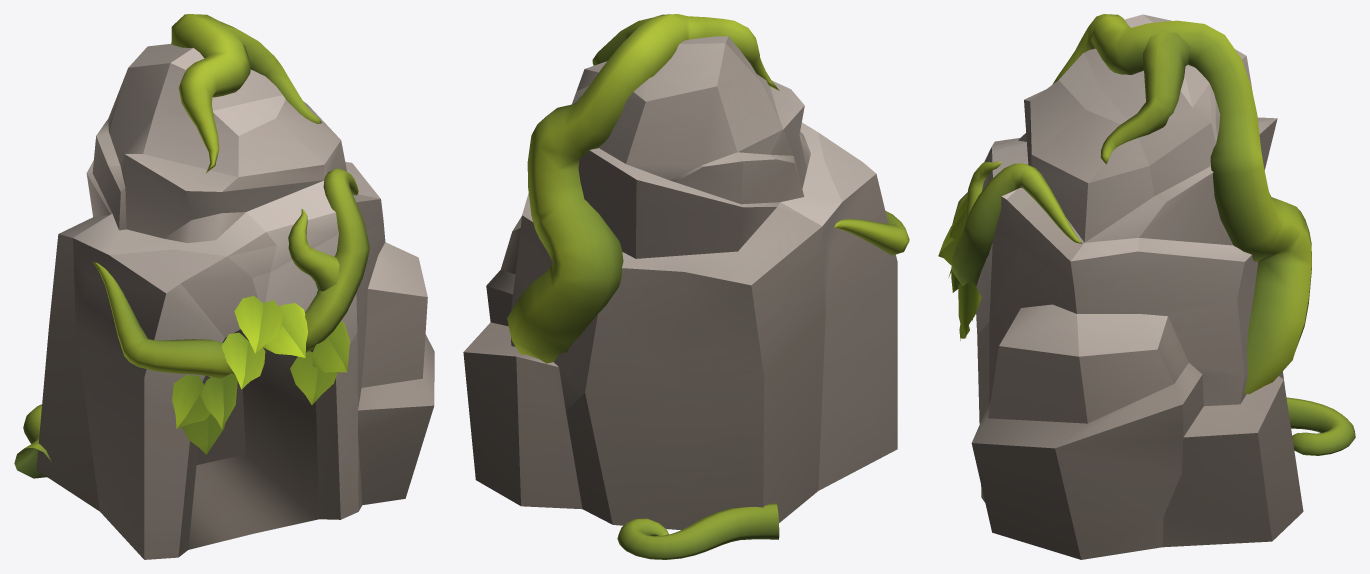
File: elf_mine_enterance.fbx
The picture shows the model from 3 angles, left to right: view 1: azimuth 30°, elevation 25°; view 2: azimuth 150°, elevation 25°; view 3: azimuth 270°, elevation 25°; orthographic projection. The views are drawn at different scales.
Visible parts, largest first — view 1: elf_mine_enterance; view 2: elf_mine_enterance; view 3: elf_mine_enterance.
Part boxes in pixels (<box>): elf_mine_enterance: <box>14,14,434,559</box>; elf_mine_enterance: <box>463,14,909,559</box>; elf_mine_enterance: <box>938,14,1355,559</box>.
Bounding box in the file's own units: 757 × 964 × 797.
